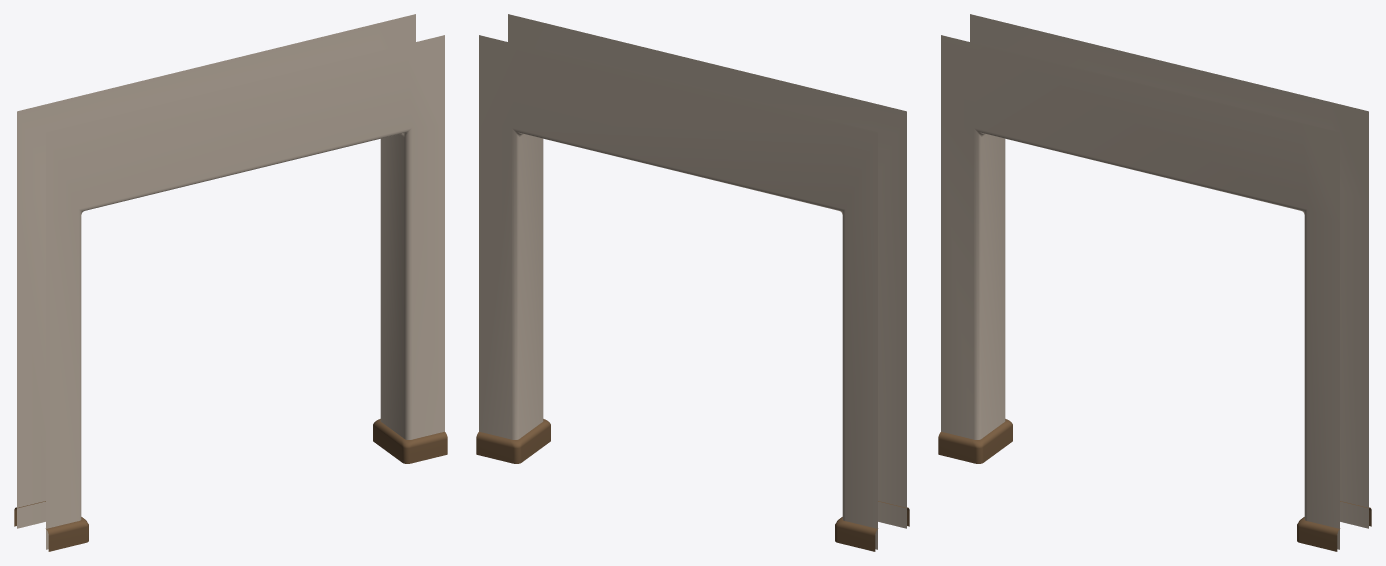
Rendered from SM_Buildings_Wall_Door_02.fbx.
3 views of the same model, side by side, from view 1: azimuth 30°, elevation 25°; view 2: azimuth 150°, elevation 25°; view 3: azimuth 330°, elevation 25° (orthographic).
Parts seen in each view (by area): view 1: SM_Wall_Door_01, SM_Wall_01.001; view 2: SM_Wall_Door_01, SM_Wall_01.001; view 3: SM_Wall_Door_01, SM_Wall_01.001.
Part boxes in pixels (x1,y1,x2,y2): SM_Wall_Door_01: [17, 14, 444, 549]; SM_Wall_01.001: [14, 419, 447, 551]; SM_Wall_Door_01: [479, 14, 906, 549]; SM_Wall_01.001: [476, 419, 909, 551]; SM_Wall_Door_01: [941, 14, 1368, 549]; SM_Wall_01.001: [938, 419, 1371, 551].
Size of the model in its own units: 400 by 400 by 60.
